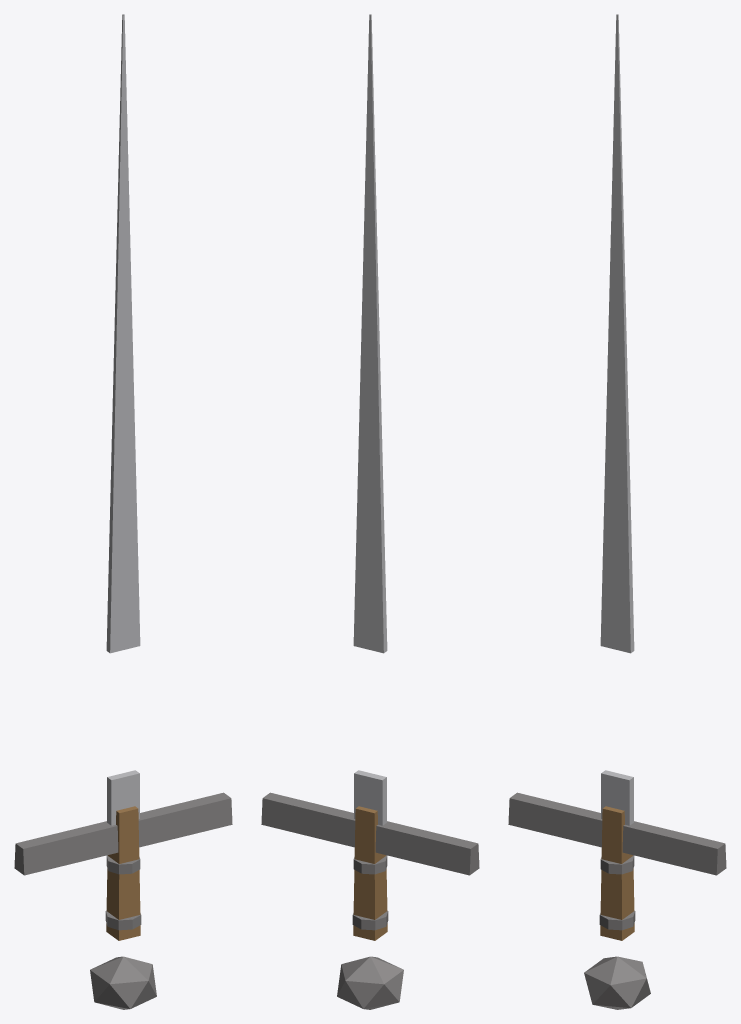
File: medieval_sword.fbx
3 renders of one model, left to right at view 1: azimuth 30°, elevation 25°; view 2: azimuth 150°, elevation 25°; view 3: azimuth 330°, elevation 25°, orthographic.
Visible parts, largest first — view 1: medieval_sword; view 2: medieval_sword; view 3: medieval_sword.
Boxes of the visible parts, x1=… form: medieval_sword: x1=14, y1=14, x2=232, y2=1009; medieval_sword: x1=261, y1=14, x2=479, y2=1009; medieval_sword: x1=508, y1=14, x2=726, y2=1009.
Bounding box in the file's own units: 0.55 × 2.51 × 0.1467.
